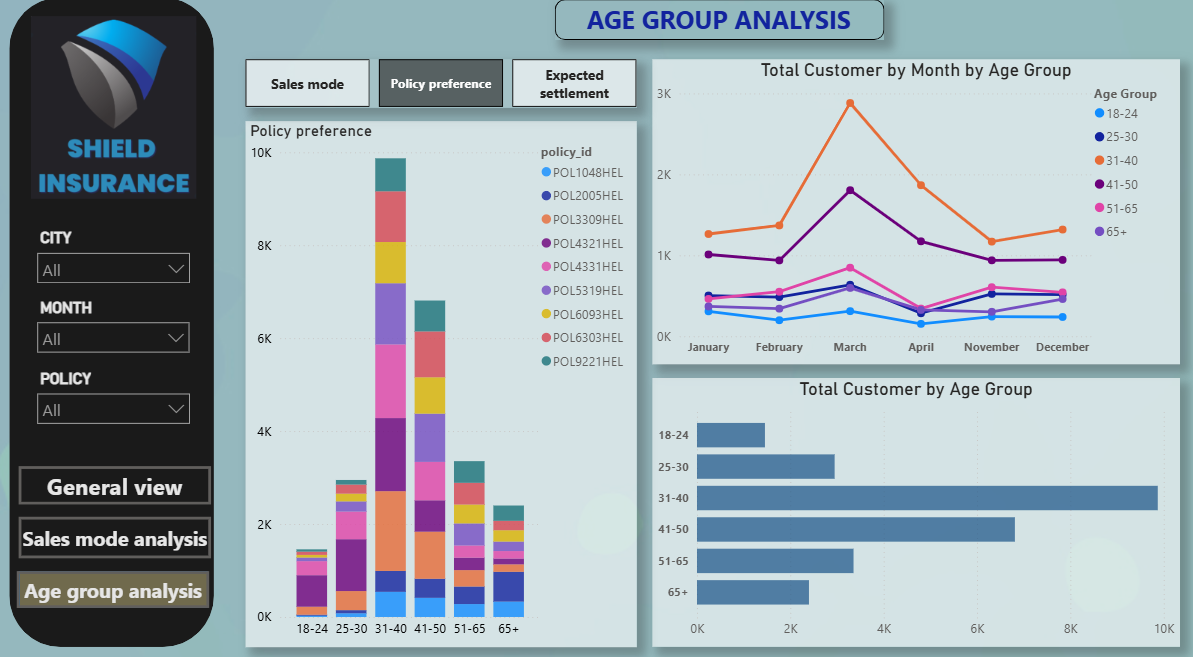

What the dashboard file says about the page in this screenshot:
{"tool":"powerbi","page":{"name":"Age Group Analysis","canvas":[1280,720],"ordinal":6},"visuals":[{"type":"textbox","box":[616.9,9.7,310.9,48.6],"z":0},{"type":"shape","box":[11.5,9.9,219.4,696.1],"z":1000},{"type":"image","box":[32.4,29.1,183,195.9],"z":2000},{"type":"slicer","fields":{"Values":["dim_policies.policy_id"]},"box":[32.3,403.1,183.1,73.8],"z":3000},{"type":"slicer","fields":{"Values":["dim_date.date.Variation.Date Hierarchy.Month"]},"box":[32.4,328.2,183,74.5],"z":4000},{"type":"slicer","fields":{"Values":["dim_customer.city"]},"box":[32.3,253.8,183.1,73.8],"z":5000},{"type":"lineChart","title":"Total Customer by Month by Age Group","fields":{"Category":["dim_date.date.Variation.Date Hierarchy.Month"],"Y":["Measure.Total Customer"],"Series":["dim_customer.Age Group"]},"box":[701.1,76.1,565.1,327.1],"z":6000},{"type":"barChart","fields":{"Y":["Measure.Total Customer"],"Category":["dim_customer.Age Group"]},"box":[701.1,417.8,565.1,288.2],"z":7000},{"type":"columnChart","title":"Sales mode","fields":{"Series":["fact_premiums.sales_mode"],"Y":["Measure.Total Customer"],"Category":["dim_customer.Age Group"]},"box":[263.9,142.5,419.4,563.5],"z":10000},{"type":"shape","box":[21.4,625.2,202.9,39.6],"z":11000},{"type":"bookmarkNavigator","box":[265.6,76.1,419.4,51.8],"z":12000},{"type":"actionButton","box":[21.4,513,206.2,41.2],"z":13000},{"type":"actionButton","box":[21.4,567.4,206.2,44.5],"z":14000},{"type":"actionButton","box":[19.8,625.2,206.2,39.6],"z":15000},{"type":"shape","box":[595.9,11.3,353,43.7],"z":16000}]}

Visuals, with their boxes in screenshot pixels (x1, y1, x2, y2), scaled from the page's 1280x720 canvas onto the 1193x657 screenshot:
textbox: BBox(575, 9, 865, 53)
shape: BBox(11, 9, 215, 644)
image: BBox(30, 27, 201, 205)
slicer - dim_policies.policy_id: BBox(30, 368, 201, 435)
slicer - dim_date.date.Variation.Date Hierarchy.Month: BBox(30, 299, 201, 367)
slicer - dim_customer.city: BBox(30, 232, 201, 299)
"Total Customer by Month by Age Group" lineChart: BBox(653, 69, 1180, 368)
barChart - Measure.Total Customer x dim_customer.Age Group: BBox(653, 381, 1180, 644)
"Sales mode" columnChart: BBox(246, 130, 637, 644)
shape: BBox(20, 570, 209, 607)
bookmarkNavigator: BBox(248, 69, 638, 117)
actionButton: BBox(20, 468, 212, 506)
actionButton: BBox(20, 518, 212, 558)
actionButton: BBox(18, 570, 211, 607)
shape: BBox(555, 10, 884, 50)
